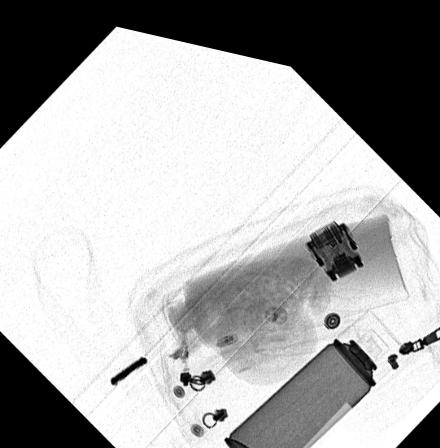Sprayer: (221, 290, 407, 448)
